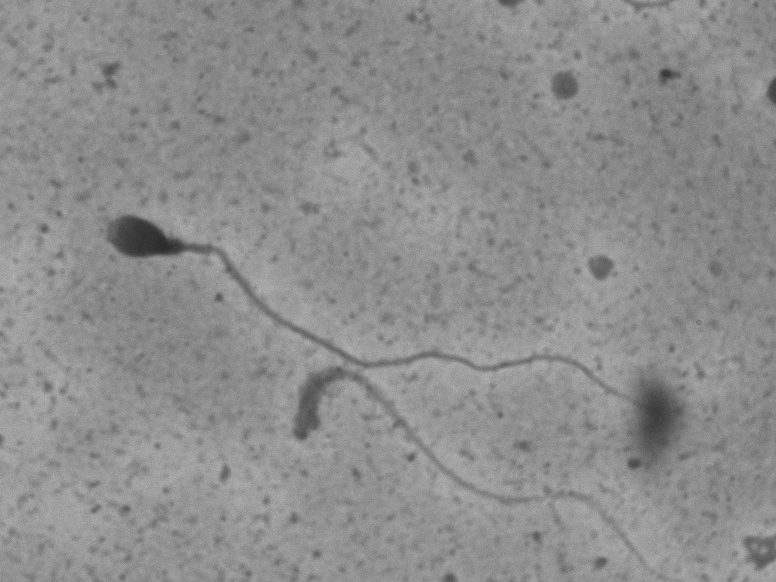Abnormal: (90, 188, 718, 439)
